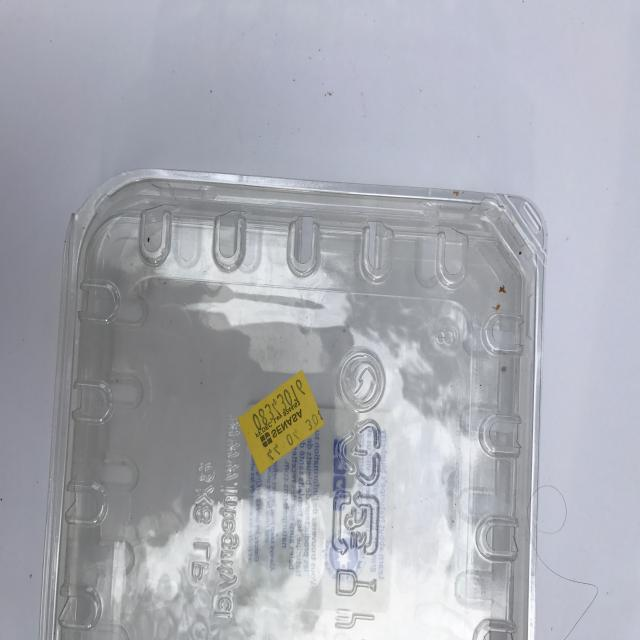plastic: (42, 170, 547, 638)
